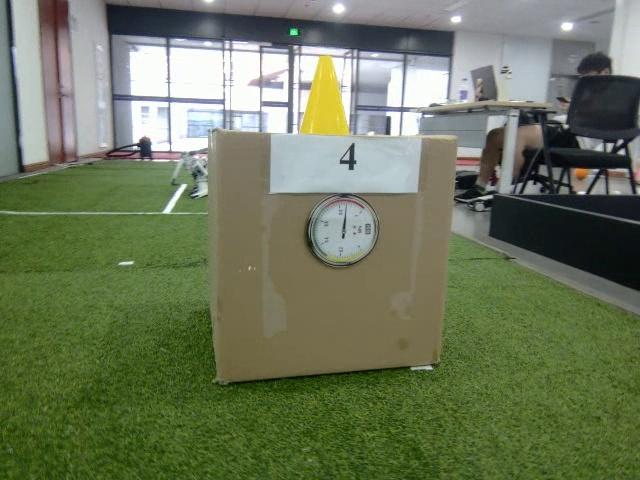4: (338, 141, 358, 171)
Dashboard: (304, 193, 380, 270)
ssi: (362, 222, 372, 236)
yellow_barrel: (296, 54, 357, 136)
